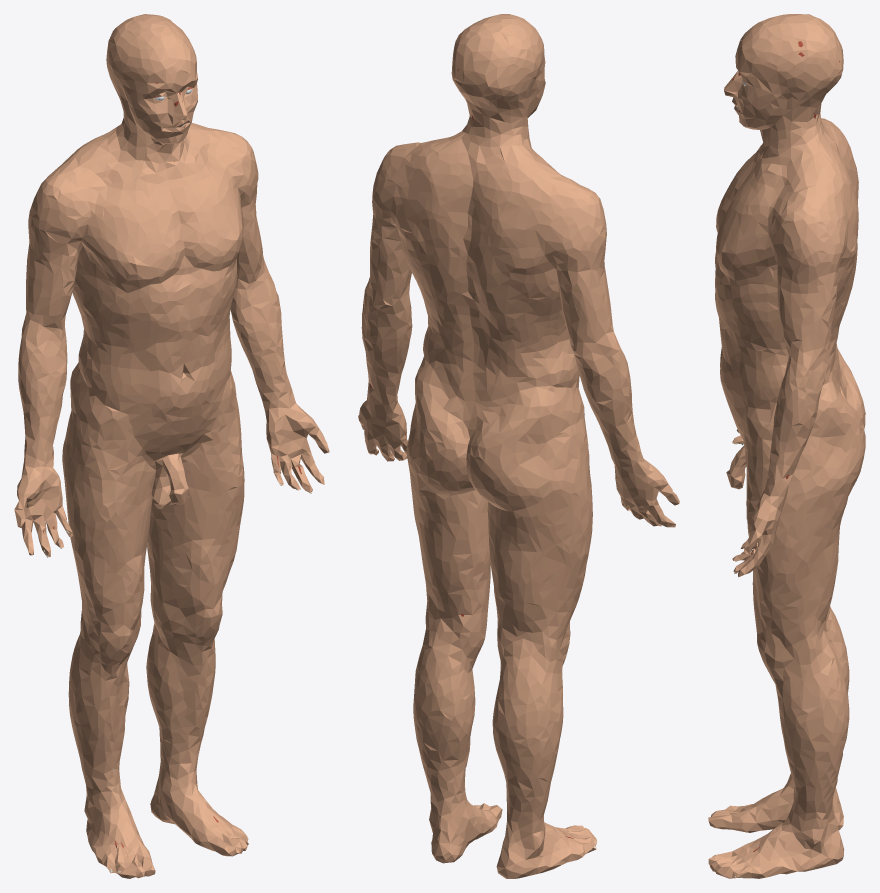
Rendered from human-body.glb.
3 renders of one model, left to right at view 1: azimuth 30°, elevation 25°; view 2: azimuth 150°, elevation 25°; view 3: azimuth 270°, elevation 25°, orthographic. The views are drawn at different scales.
Parts seen in each view (by area): view 1: skin; view 2: skin; view 3: skin.
Part boxes in pixels (x1=…): skin: x1=14, y1=14, x2=329, y2=878; skin: x1=358, y1=14, x2=679, y2=878; skin: x1=708, y1=14, x2=865, y2=878.
Bounding box in the file's own units: 0.6558 × 1.65 × 0.284.
